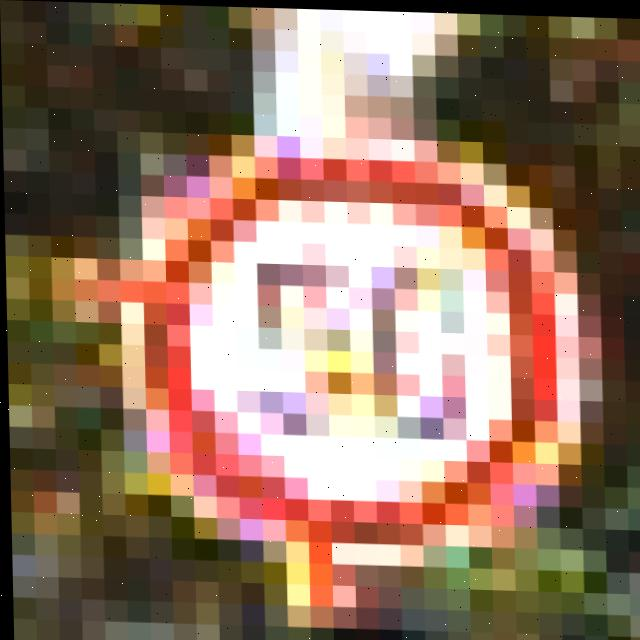speed_limit_50: (127, 168, 640, 547)
